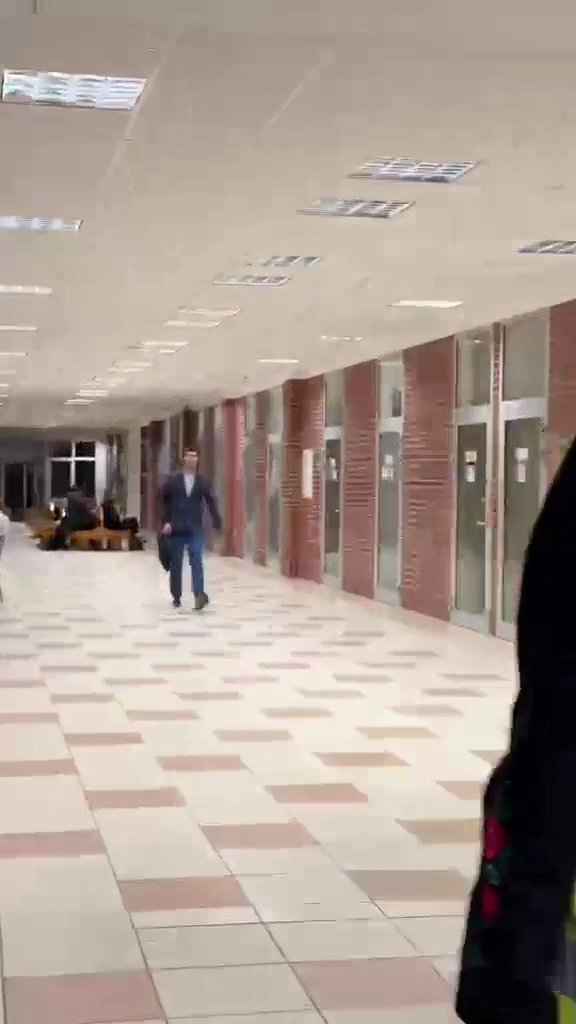no vest: (153, 437, 225, 604)
